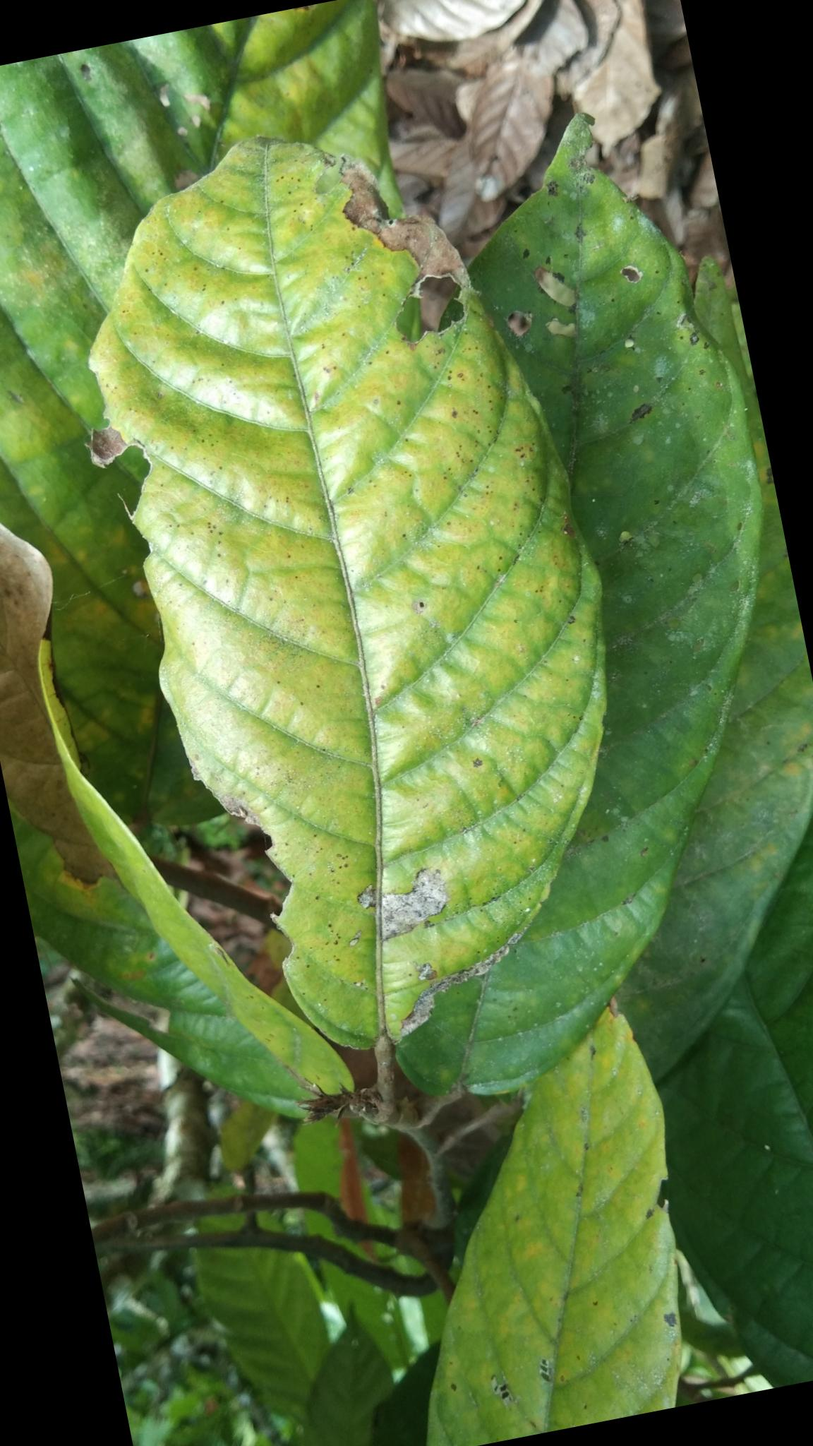Potasio: (74, 117, 639, 1072)
